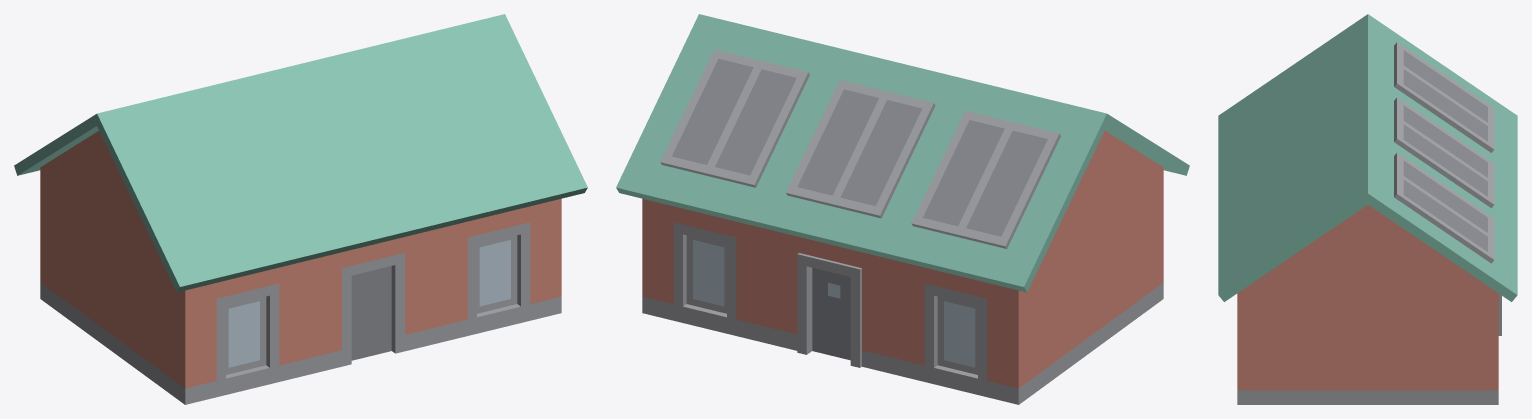
Rendered from house1.fbx.
The picture shows the model from 3 angles, left to right: view 1: azimuth 30°, elevation 25°; view 2: azimuth 150°, elevation 25°; view 3: azimuth 270°, elevation 25°; orthographic projection. The views are drawn at different scales.
Visible parts, largest first — view 1: house_type01; view 2: house_type01; view 3: house_type01.
Boxes of the visible parts, box(x1,y1,x2,y2) form: house_type01: box(14, 14, 587, 404); house_type01: box(616, 14, 1189, 404); house_type01: box(1218, 14, 1517, 404).
Bounding box in the file's own units: 1300 × 738 × 916.
